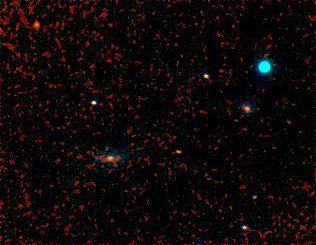star: (20, 10, 50, 40)
